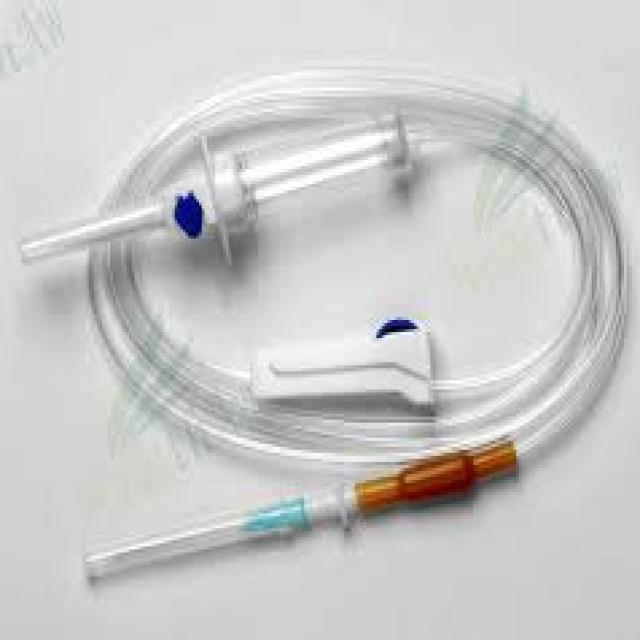B3: (16, 82, 633, 590)
